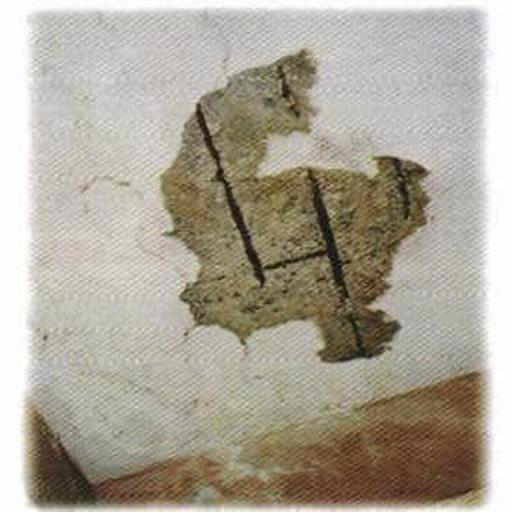spalling: (158, 49, 443, 374)
